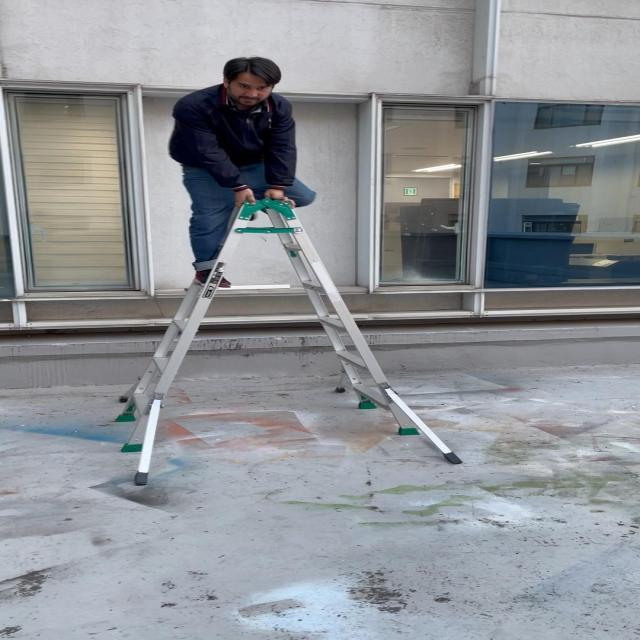boots: (100, 192, 487, 490)
vest: (162, 52, 326, 292)
